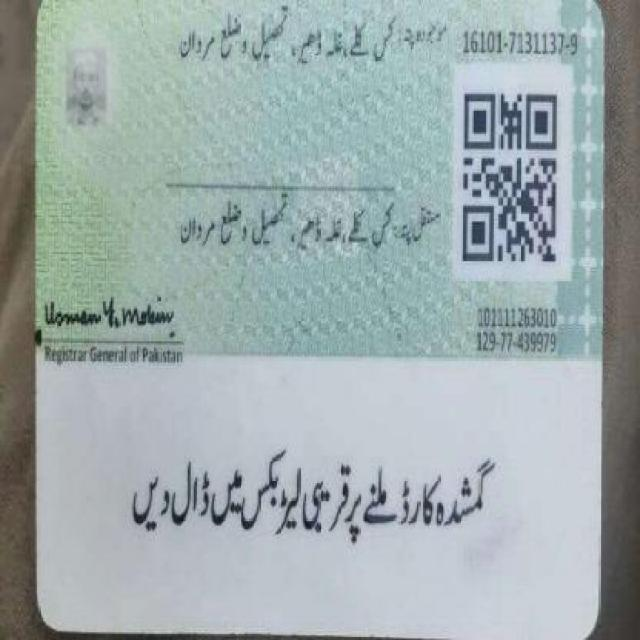Back: (21, 0, 601, 632)
